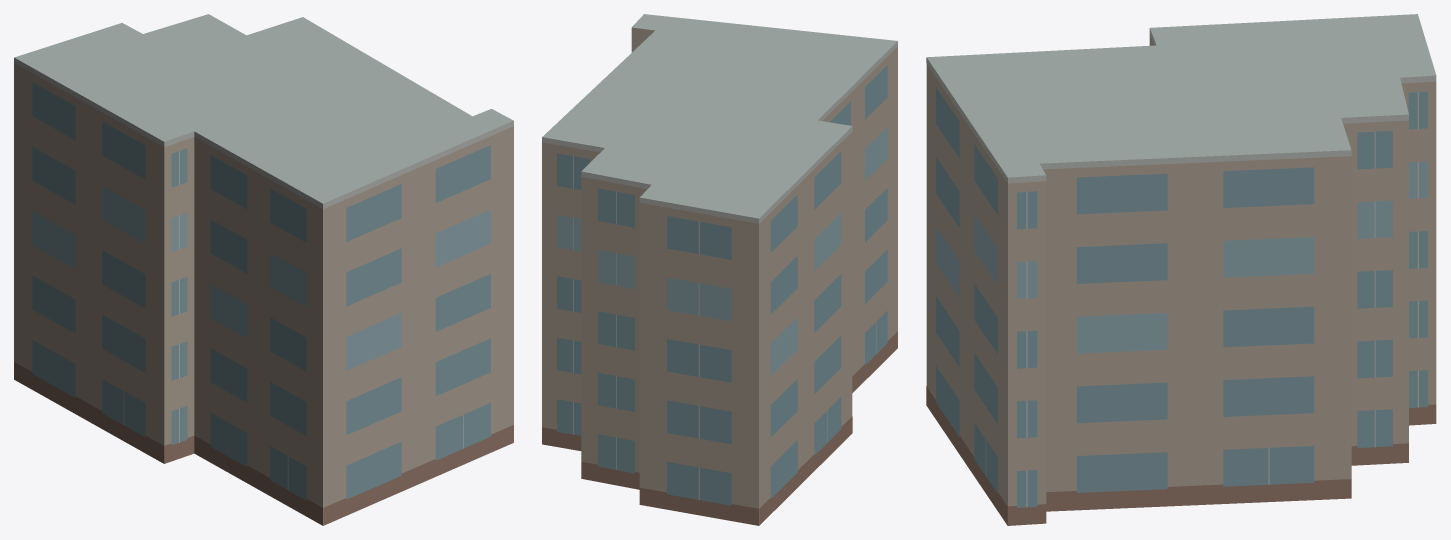
The model's file is survey-upis-32941013.glb.
3 renders of one model, left to right at view 1: azimuth 30°, elevation 25°; view 2: azimuth 150°, elevation 25°; view 3: azimuth 270°, elevation 25°, orthographic. The views are drawn at different scales.
Visible parts, largest first — view 1: survey-upis-32941013.tmp; view 2: survey-upis-32941013.tmp; view 3: survey-upis-32941013.tmp.
Boxes of the visible parts, x1,y1,x2,y2 form: survey-upis-32941013.tmp: [14, 14, 513, 525]; survey-upis-32941013.tmp: [542, 14, 897, 525]; survey-upis-32941013.tmp: [926, 14, 1436, 525].
Bounding box in the file's own units: 14.52 × 14.4 × 19.12.
